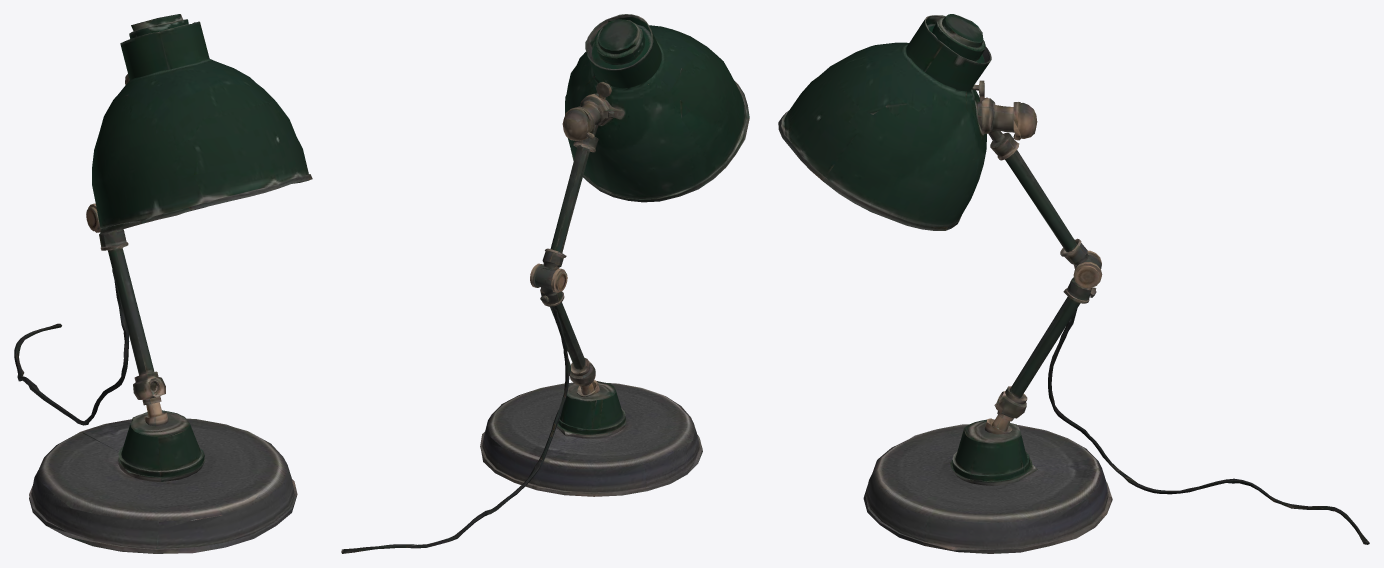
The model's file is desk_lamp.glb.
3 renders of one model, left to right at view 1: azimuth 30°, elevation 25°; view 2: azimuth 150°, elevation 25°; view 3: azimuth 270°, elevation 25°, orthographic. The views are drawn at different scales.
Bounding box in the file's own units: 0.2183 × 0.45 × 0.509.
1 material, 1 textured.
